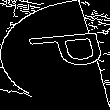P_E: (7, 33, 103, 77)
